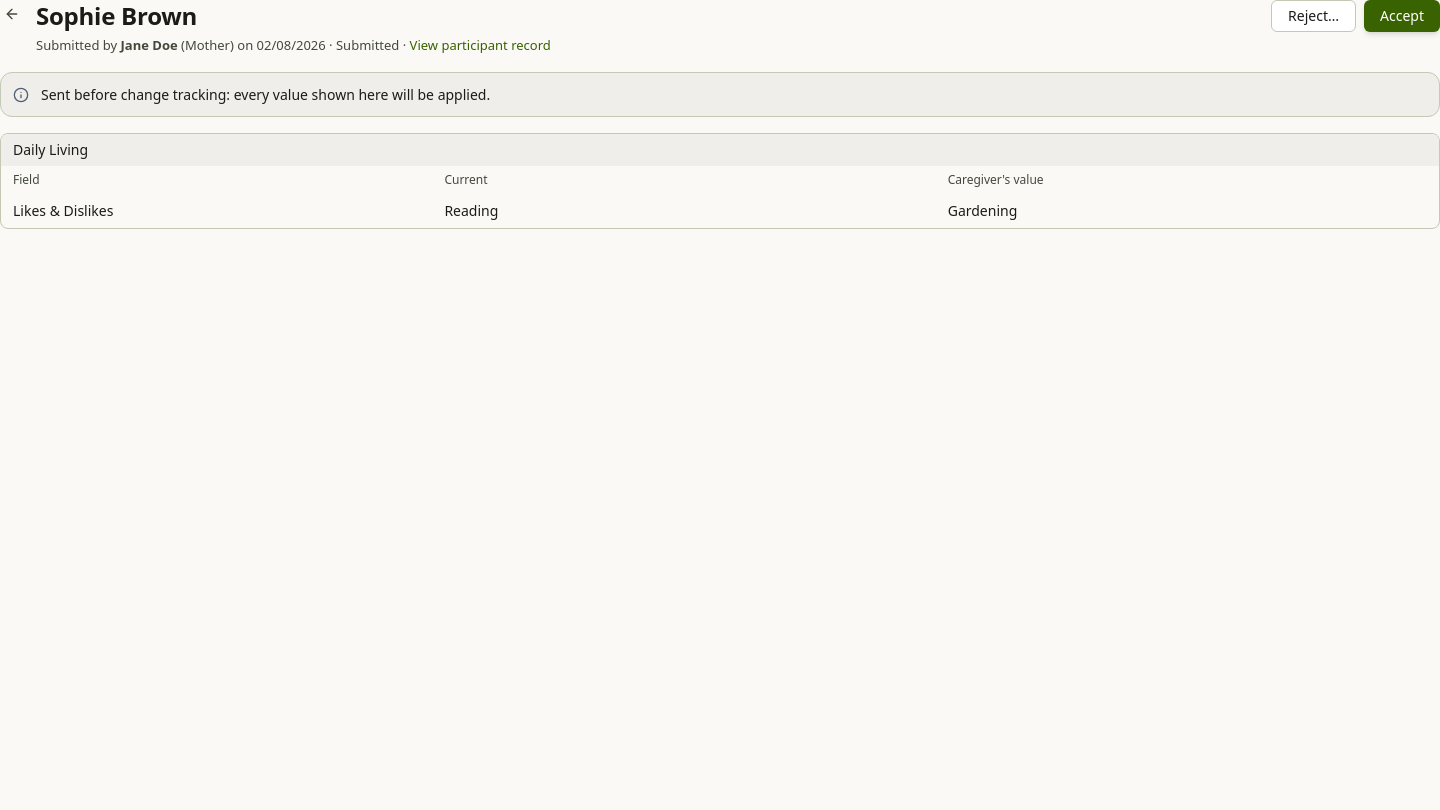
Test: CaregiverSubmissionReviewPage — a refused Accept or Reject › closes the Accept confirm, shows the server message and refetches
Click the button "Accept" at (1402, 16), box [1364, 0, 1439, 32]
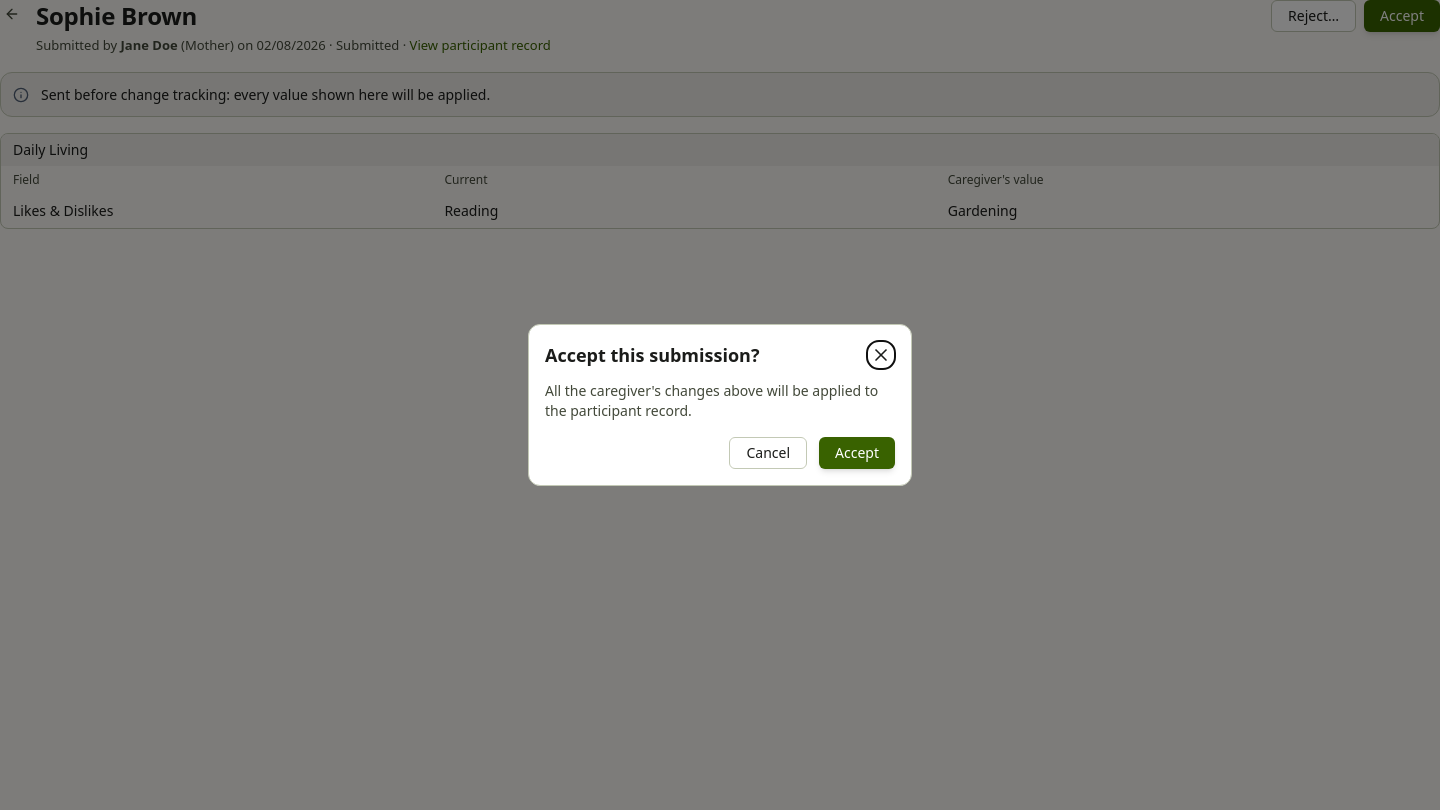
Click the button "Accept" at (857, 453), box [819, 437, 895, 469]
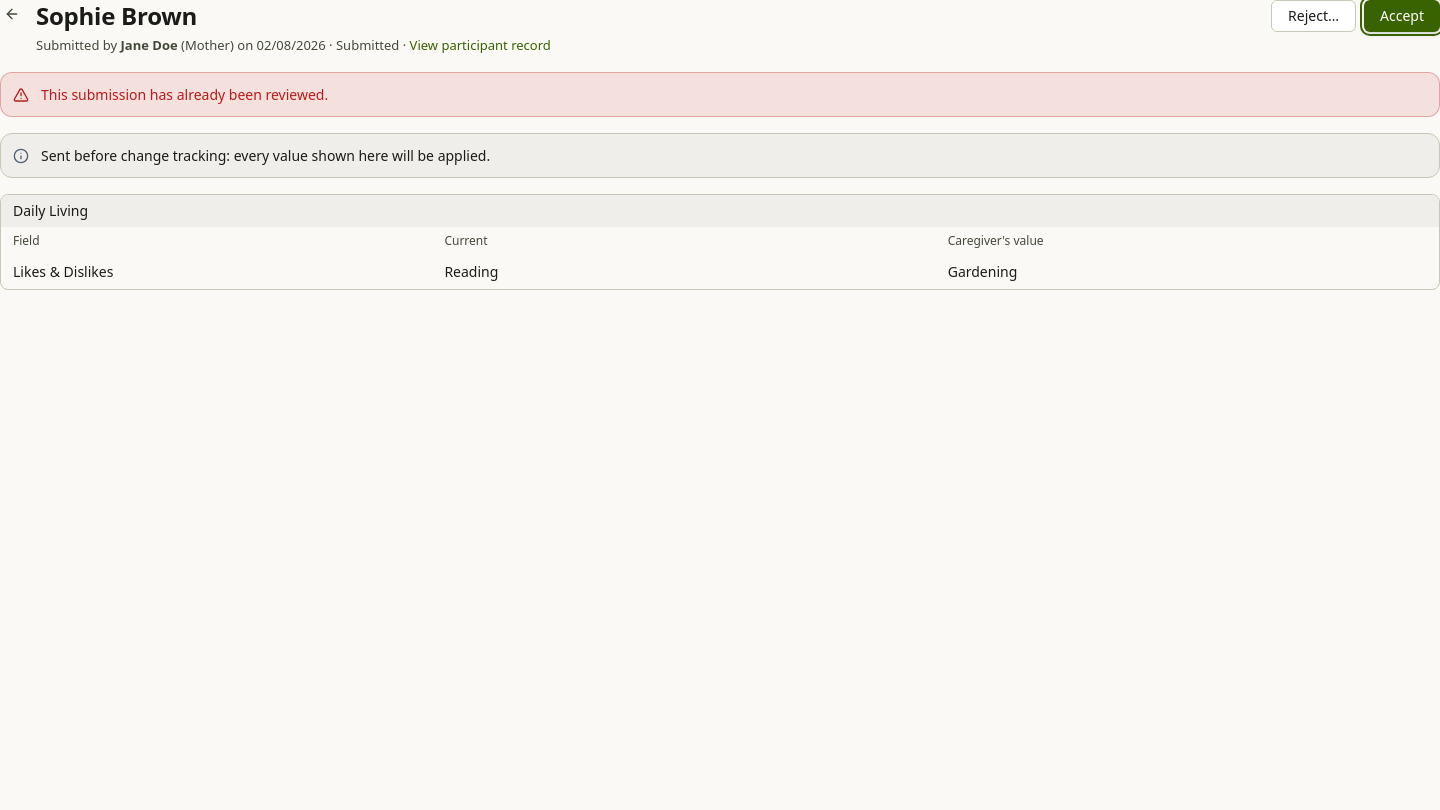
Expected: the dialog is gone
Expected: the text "This submission has already been reviewed." is shown, [41, 84, 328, 104]
